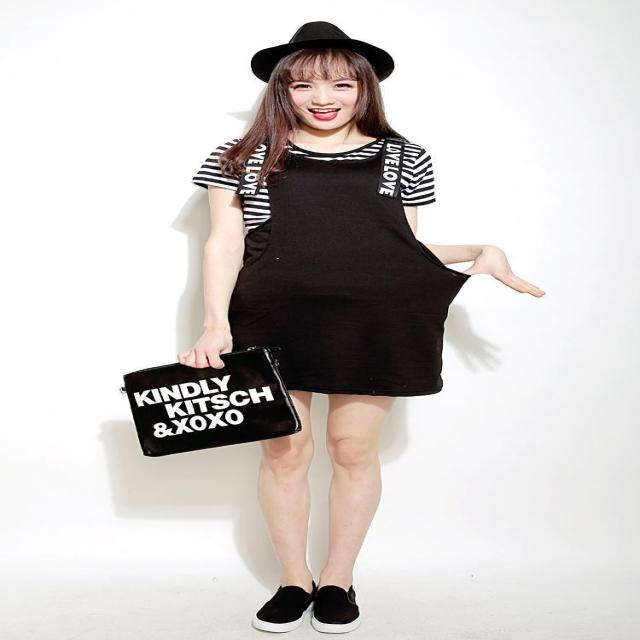short-sleeve-dress: (156, 112, 509, 427)
